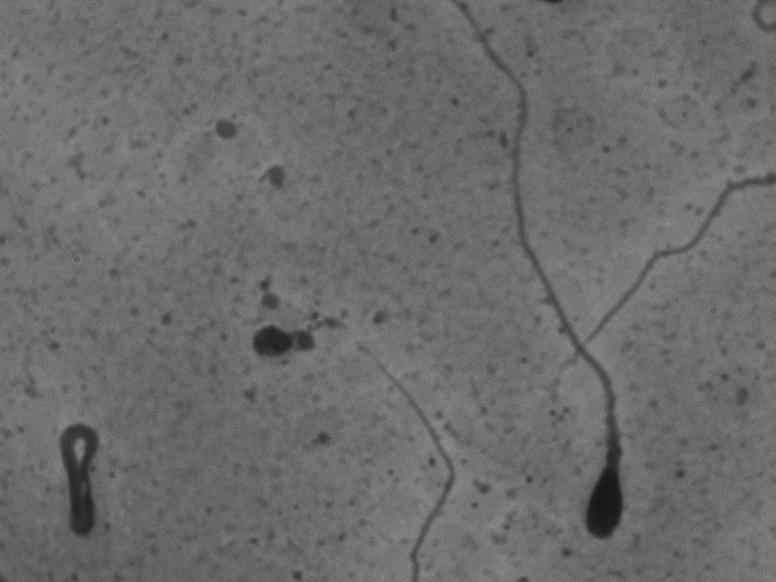Abnormal: (463, 12, 652, 550)
